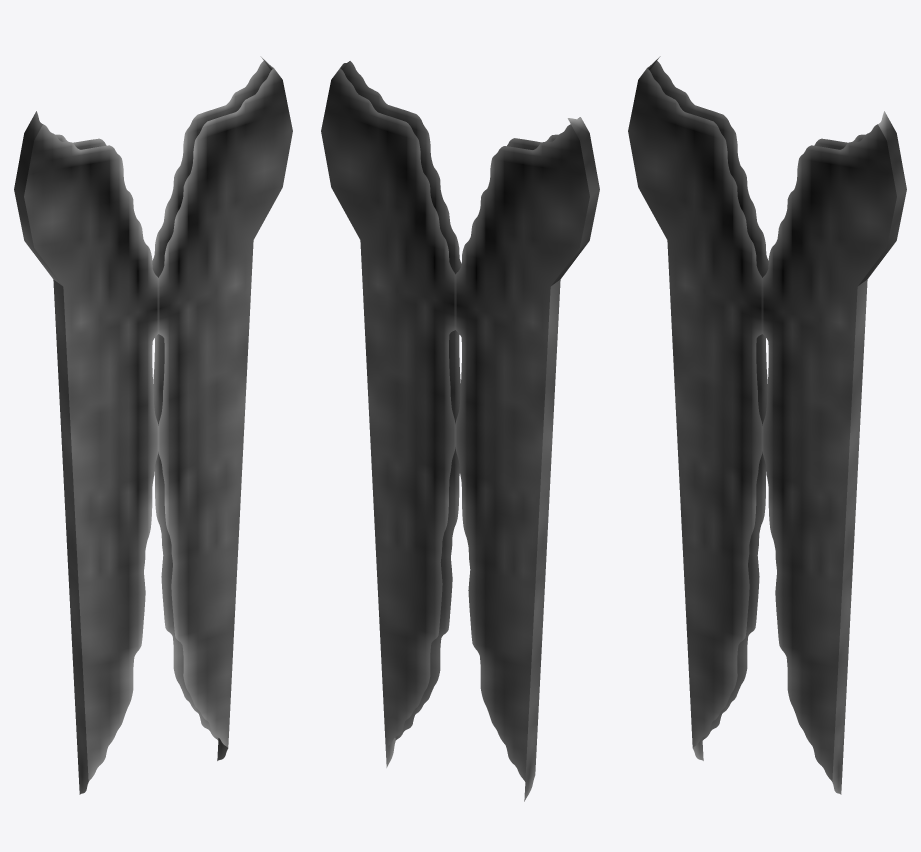
Rendered from gangba5.FBX.
3 views of the same model, side by side, from view 1: azimuth 30°, elevation 25°; view 2: azimuth 150°, elevation 25°; view 3: azimuth 330°, elevation 25° (orthographic).
Parts seen in each view (by area): view 1: Object24; view 2: Object24; view 3: Object24.
Boxes of the visible parts, x1,y1,x2,y2 form: Object24: (14,56,292,794); Object24: (321,61,599,801); Object24: (628,56,906,794).
Size of the model in its own units: 11.81 by 0.7579 by 33.5.
